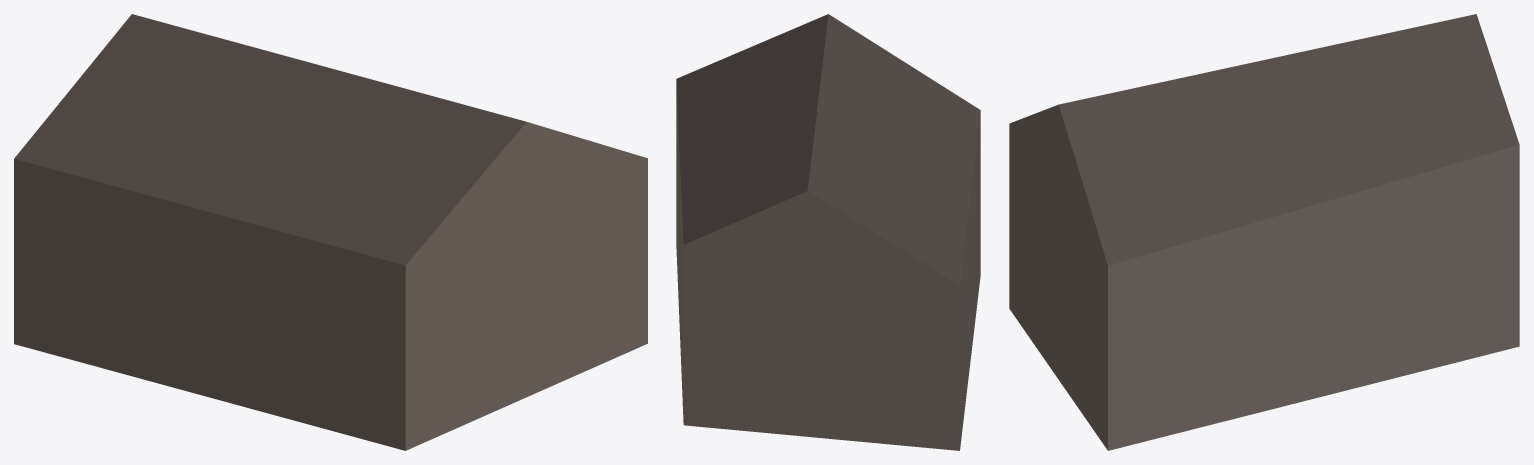
The picture shows the model from 3 angles, left to right: view 1: azimuth 30°, elevation 25°; view 2: azimuth 150°, elevation 25°; view 3: azimuth 270°, elevation 25°; orthographic projection. The views are drawn at different scales.
Visible parts, largest first — view 1: HP-w369317521; view 2: HP-w369317521; view 3: HP-w369317521.
Boxes of the visible parts, box(x1,y1,x2,y2) form: HP-w369317521: box(14, 14, 647, 450); HP-w369317521: box(676, 14, 980, 450); HP-w369317521: box(1009, 14, 1519, 450).
Bounding box in the file's own units: 24.18 × 13.38 × 22.47.
